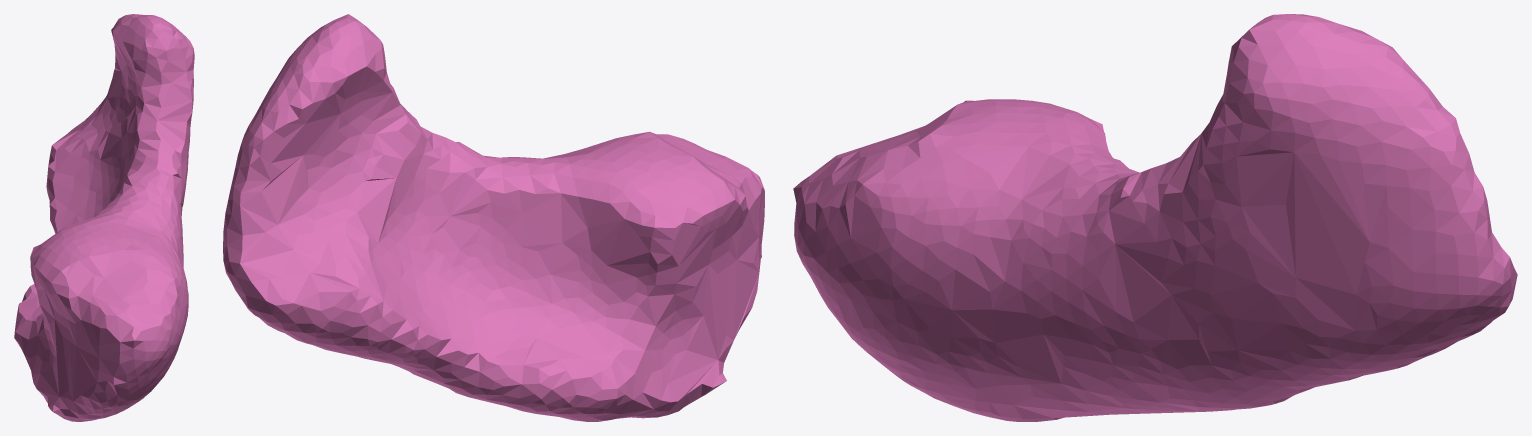
Rendered from Model_408_RH__External_cortex_of_the_inferior_colliculus_(ECIC).obj.
3 views of the same model, side by side, from view 1: azimuth 30°, elevation 25°; view 2: azimuth 150°, elevation 25°; view 3: azimuth 270°, elevation 25° (orthographic). The views are drawn at different scales.
Bounding box in the file's own units: 1.91 × 2.37 × 2.97.
